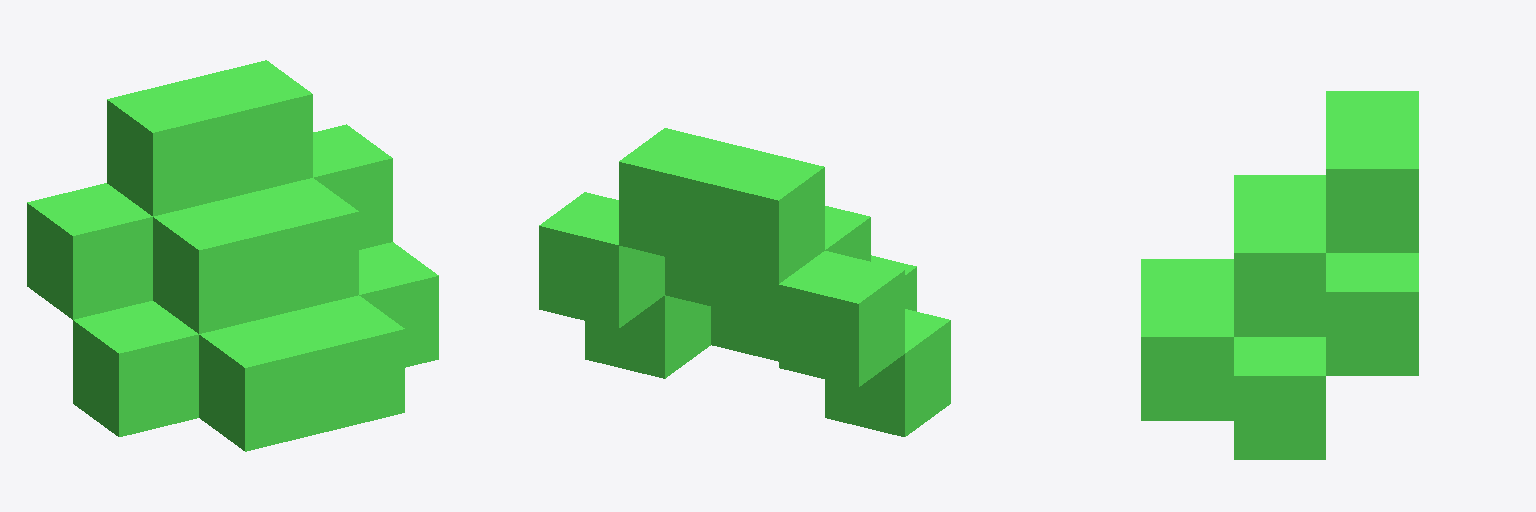
3 views of the same model, side by side, from view 1: azimuth 30°, elevation 25°; view 2: azimuth 150°, elevation 25°; view 3: azimuth 270°, elevation 25° (orthographic).
Visible parts, largest first — view 1: Ship_3-5; view 2: Ship_3-5; view 3: Ship_3-5.
Boxes of the visible parts, x1,y1,x2,y2 form: Ship_3-5: [27, 60, 438, 451]; Ship_3-5: [539, 128, 950, 436]; Ship_3-5: [1141, 91, 1418, 459].
Size of the model in its own units: 4 by 3 by 3.
Materials: 1 (1 with a texture image).